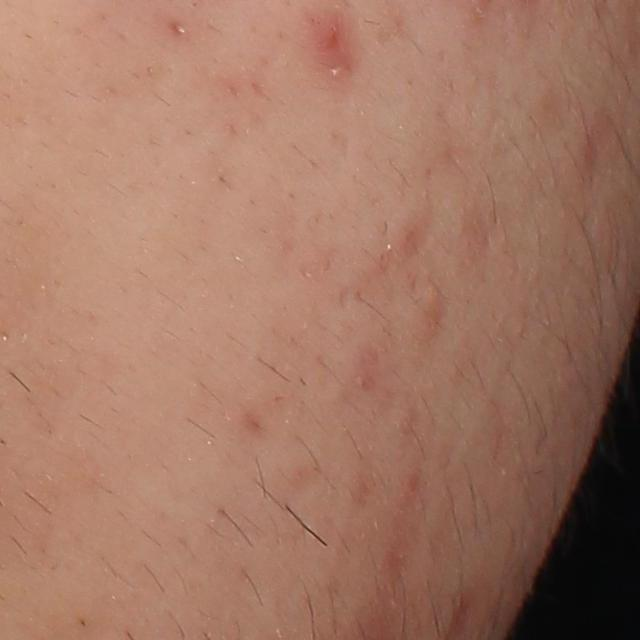atrophic_scar: (165, 20, 191, 40)
papule: (317, 18, 352, 59)
